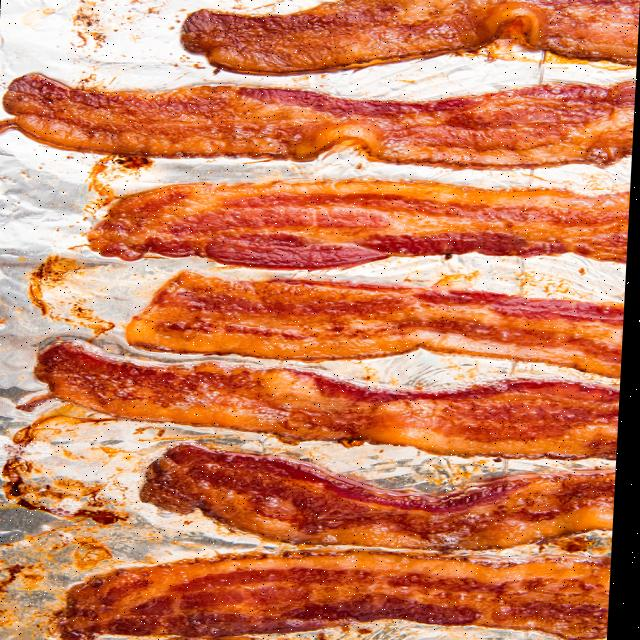Bacon: (39, 340, 624, 460), (0, 74, 637, 169), (130, 271, 627, 378), (146, 444, 621, 550), (66, 550, 617, 640), (91, 180, 632, 270), (182, 0, 640, 75)
